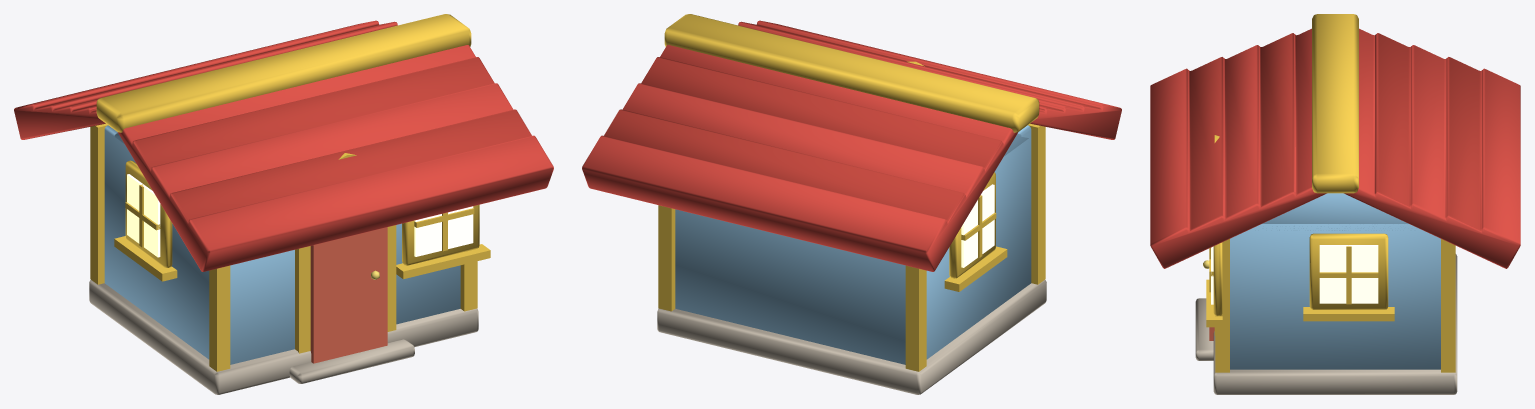
The model's file is v_playhouse.glb.
3 views of the same model, side by side, from view 1: azimuth 30°, elevation 25°; view 2: azimuth 150°, elevation 25°; view 3: azimuth 270°, elevation 25° (orthographic). The views are drawn at different scales.
Parts seen in each view (by area): view 1: Playhouse; view 2: Playhouse; view 3: Playhouse.
Boxes of the visible parts, x1=… form: Playhouse: x1=14, y1=14, x2=553, y2=394; Playhouse: x1=582, y1=14, x2=1121, y2=394; Playhouse: x1=1150, y1=14, x2=1520, y2=394.
Bounding box in the file's own units: 4.3 × 2.95 × 4.11.
